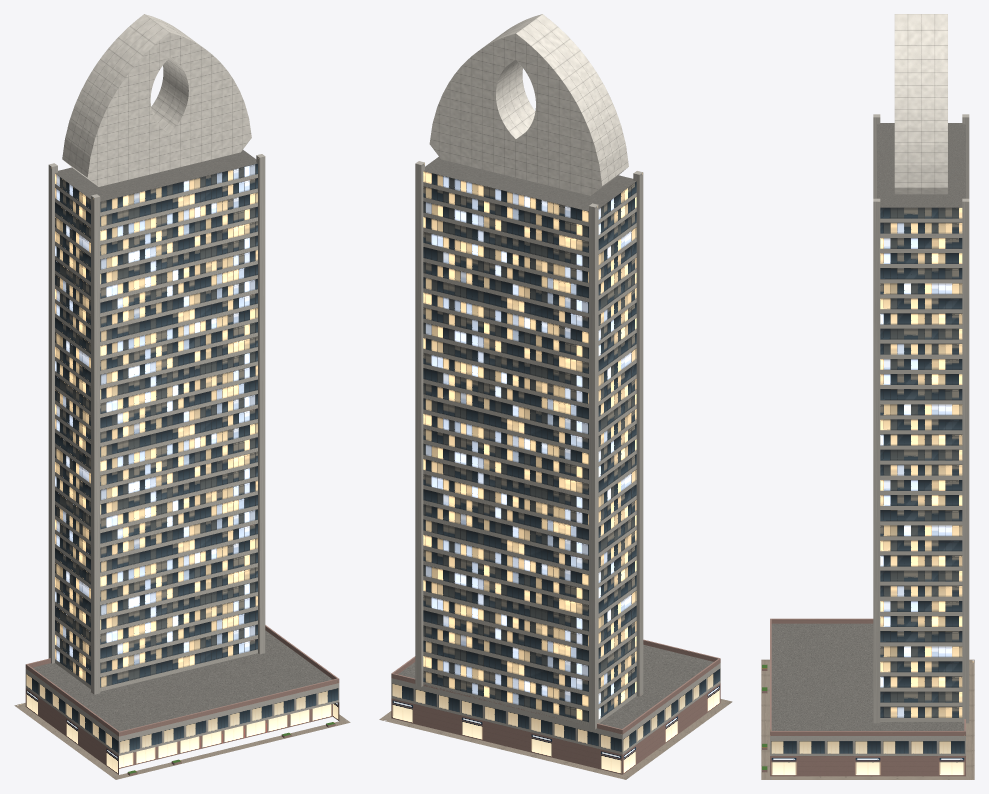
The model's file is CO_EdificioColtejer_8x6_LOD1.fbx.
The picture shows the model from 3 angles, left to right: view 1: azimuth 30°, elevation 25°; view 2: azimuth 150°, elevation 25°; view 3: azimuth 270°, elevation 25°; orthographic projection. The views are drawn at different scales.
Parts seen in each view (by area): view 1: CO_EdificioColtejer_8x6_LOD1; view 2: CO_EdificioColtejer_8x6_LOD1; view 3: CO_EdificioColtejer_8x6_LOD1.
Boxes of the visible parts, x1,y1,x2,y2 form: CO_EdificioColtejer_8x6_LOD1: (14, 14, 350, 779); CO_EdificioColtejer_8x6_LOD1: (379, 14, 732, 779); CO_EdificioColtejer_8x6_LOD1: (761, 14, 974, 779).
Bounding box in the file's own units: 64 × 175 × 48.
Materials: 1 (1 with a texture image).
